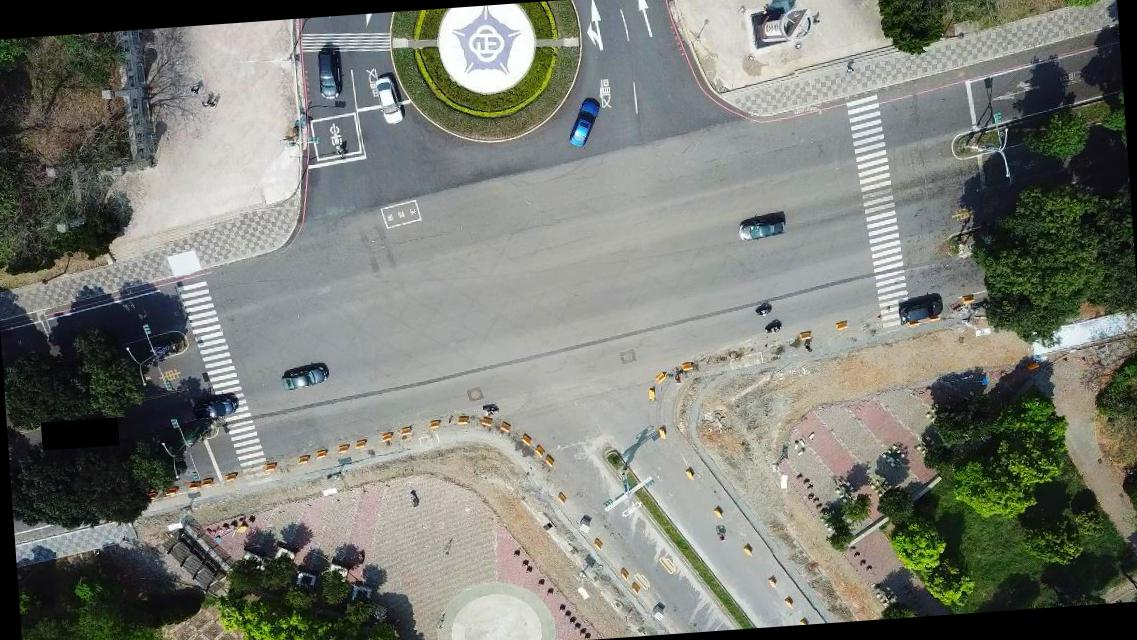vehicle: (566, 96, 602, 148), (373, 73, 404, 125), (315, 45, 343, 99), (279, 362, 332, 389), (736, 213, 787, 241), (898, 295, 944, 321), (192, 392, 238, 418)
